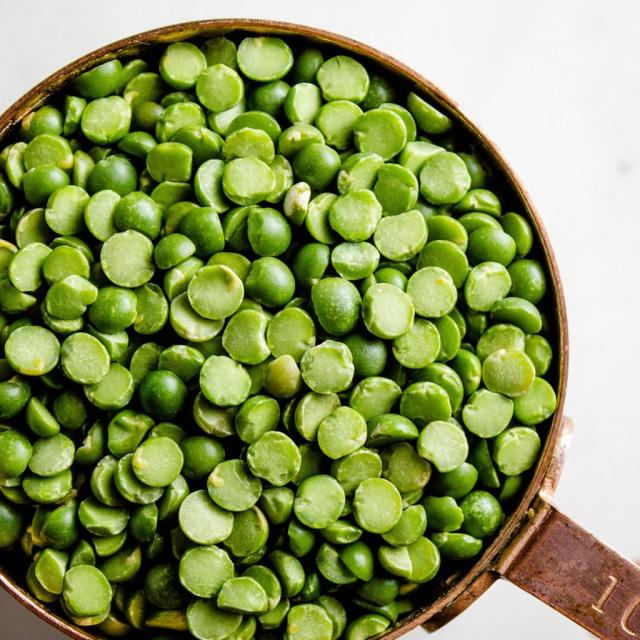arvejas: (33, 108, 497, 546)
